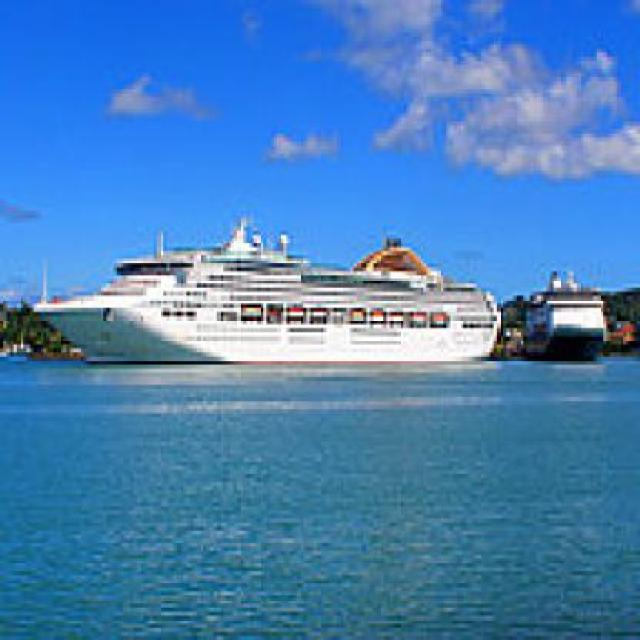cruise: (24, 199, 512, 378)
